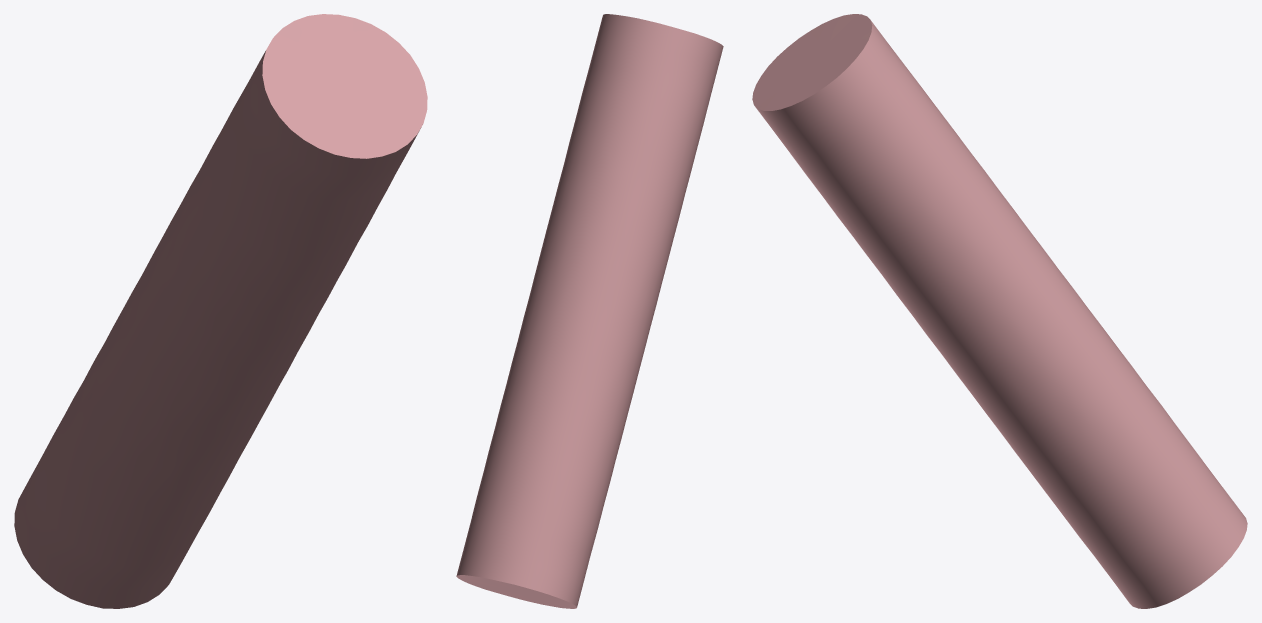
Rendered from fma75369-r_mm1067m.glb.
3 renders of one model, left to right at view 1: azimuth 30°, elevation 25°; view 2: azimuth 150°, elevation 25°; view 3: azimuth 270°, elevation 25°, orthographic. The views are drawn at different scales.
Parts seen in each view (by area): view 1: FMA75369-R_MM1067M; view 2: FMA75369-R_MM1067M; view 3: FMA75369-R_MM1067M.
Part boxes in pixels (bbox=[...]): FMA75369-R_MM1067M: bbox=[14, 14, 427, 608]; FMA75369-R_MM1067M: bbox=[456, 14, 723, 608]; FMA75369-R_MM1067M: bbox=[752, 14, 1247, 608].
Size of the model in its own units: 0.00552 by 0.0214 by 0.0165.
